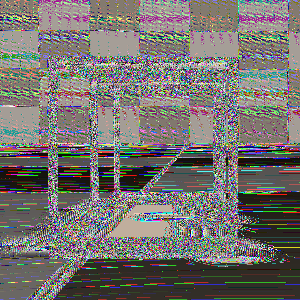Rack: (46, 52, 240, 260)
